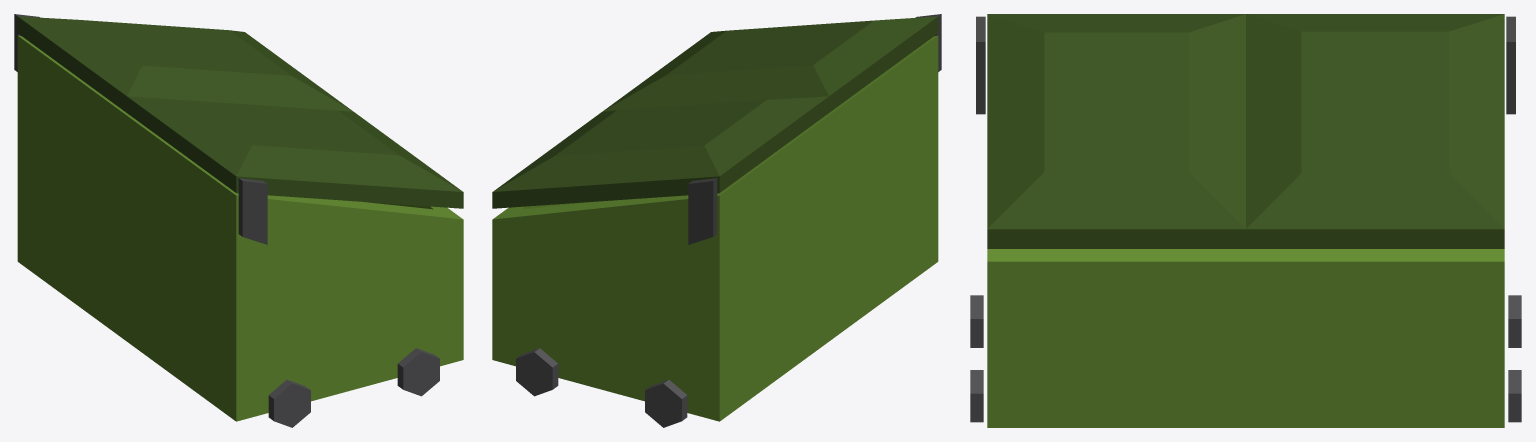
File: TrashCan.fbx
3 views of the same model, side by side, from view 1: azimuth 30°, elevation 25°; view 2: azimuth 150°, elevation 25°; view 3: azimuth 270°, elevation 25° (orthographic). The views are drawn at different scales.
Visible parts, largest first — view 1: Cube, Cube.001, Cylinder, Cube.002; view 2: Cube, Cube.001, Cylinder, Cube.002; view 3: Cube.001, Cube, Cylinder, Cube.002.
Part boxes in pixels (x1,y1,x2,y2): Cube: (17,35,463,421); Cube.001: (17,16,463,208); Cylinder: (268,348,439,427); Cube.002: (14,14,267,244); Cube: (492,35,938,421); Cube.001: (492,16,938,208); Cylinder: (516,348,687,427); Cube.002: (688,14,941,244); Cube.001: (987,14,1504,248); Cube: (987,249,1504,427); Cylinder: (970,295,1521,422); Cube.002: (976,16,1515,114).
Bounding box in the file's own units: 60 × 66.21 × 107.
